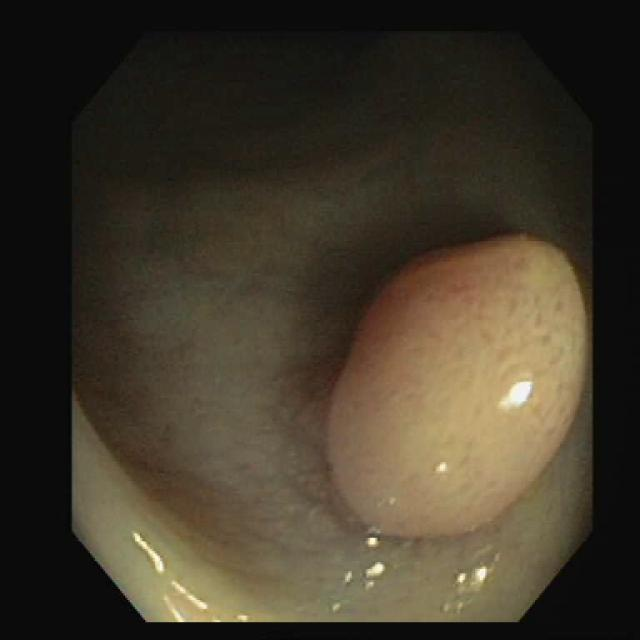tumor: (330, 236, 590, 536)
